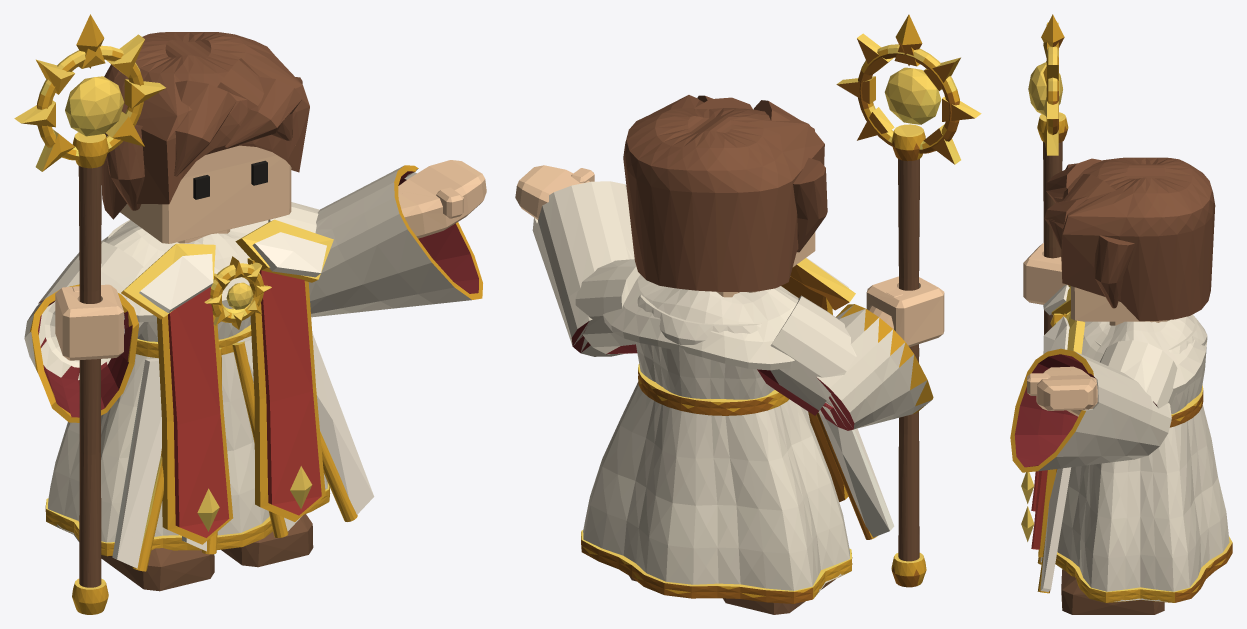
File: sunward.glb
The picture shows the model from 3 angles, left to right: view 1: azimuth 30°, elevation 25°; view 2: azimuth 150°, elevation 25°; view 3: azimuth 270°, elevation 25°; orthographic projection. The views are drawn at different scales.
Visible parts, largest first — view 1: Hair — coherent irregular crown and swept fringe, Clothing — left V7 continuous outer source shoulder elbow cu, Clothing — continuous connected deeply pleated source robe, Clothing — left rich red folded stole field, Clothing — right rich red folded stole field, Head — one continuous source cuboid skull and concealed crow, Weapon — source straight coaxial staff shaft, Clothing — right V7 continuous outer source shoulder elbow c, Clothing — right broad flowing ivory skirt panel 2, Hand — left connected broad source outward blessing palm, Hand — right stronger compact source grasp continuous with a, Clothing — right folded gold stole border (+26 smaller); view 2: Clothing — continuous connected deeply pleated source robe, Hair — coherent irregular crown and swept fringe, Clothing — right V7 continuous outer source shoulder elbow c, Clothing — left V7 continuous outer source shoulder elbow cu, Clothing — thin fitted draped ceremonial mantle shoulder she, Weapon — source straight coaxial staff shaft, Clothing — sculpted gold skirt hem, Hand — right stronger compact source grasp continuous with a, Clothing — right broad flowing ivory skirt panel 2, Clothing — actual fitted gold waist belt, Weapon — major solid sun staff focus substantial source pris, Weapon — major solid sun staff focus source gold order ring (+9 smaller); view 3: Clothing — continuous connected deeply pleated source robe, Hair — coherent irregular crown and swept fringe, Clothing — left V7 continuous outer source shoulder elbow cu, Clothing — thin fitted draped ceremonial mantle shoulder she, Hand — left connected broad source outward blessing palm, Clothing — sculpted gold skirt hem, Foot — left visible planted robe boot, Hair — left fitted tapered temple return, Clothing — left broad flowing ivory skirt panel 2, Hand — right stronger compact source grasp continuous with a, Head — one continuous source cuboid skull and concealed crow, Weapon — source straight coaxial staff shaft (+11 smaller).
Part boxes in pixels (x1=…): Hair — coherent irregular crown and swept fringe: x1=101, y1=32, x2=309, y2=219; Clothing — left V7 continuous outer source shoulder elbow cu: x1=268, y1=165, x2=482, y2=317; Clothing — continuous connected deeply pleated source robe: x1=48, y1=220, x2=327, y2=542; Clothing — left rich red folded stole field: x1=259, y1=270, x2=321, y2=515; Clothing — right rich red folded stole field: x1=168, y1=287, x2=229, y2=537; Head — one continuous source cuboid skull and concealed crow: x1=120, y1=145, x2=291, y2=243; Weapon — source straight coaxial staff shaft: x1=78, y1=166, x2=101, y2=587; Clothing — right V7 continuous outer source shoulder elbow c: x1=24, y1=241, x2=148, y2=422; Clothing — right broad flowing ivory skirt panel 2: x1=112, y1=358, x2=161, y2=568; Hand — left connected broad source outward blessing palm: x1=398, y1=160, x2=486, y2=238; Hand — right stronger compact source grasp continuous with a: x1=55, y1=284, x2=123, y2=360; Clothing — right folded gold stole border: x1=157, y1=315, x2=233, y2=544; Clothing — continuous connected deeply pleated source robe: x1=583, y1=288, x2=849, y2=593; Hair — coherent irregular crown and swept fringe: x1=623, y1=95, x2=824, y2=292; Clothing — right V7 continuous outer source shoulder elbow c: x1=757, y1=295, x2=933, y2=430; Clothing — left V7 continuous outer source shoulder elbow cu: x1=532, y1=181, x2=640, y2=356; Clothing — thin fitted draped ceremonial mantle shoulder she: x1=603, y1=274, x2=798, y2=370; Weapon — source straight coaxial staff shaft: x1=898, y1=159, x2=919, y2=561; Clothing — sculpted gold skirt hem: x1=581, y1=530, x2=852, y2=603; Hand — right stronger compact source grasp continuous with a: x1=866, y1=276, x2=944, y2=347; Clothing — right broad flowing ivory skirt panel 2: x1=819, y1=413, x2=894, y2=537; Clothing — actual fitted gold waist belt: x1=638, y1=363, x2=789, y2=415; Weapon — major solid sun staff focus substantial source pris: x1=884, y1=67, x2=941, y2=124; Weapon — major solid sun staff focus source gold order ring: x1=858, y1=44, x2=959, y2=153; Clothing — continuous connected deeply pleated source robe: x1=1057, y1=314, x2=1229, y2=601; Hair — coherent irregular crown and swept fringe: x1=1044, y1=157, x2=1215, y2=321; Clothing — left V7 continuous outer source shoulder elbow cu: x1=1010, y1=340, x2=1177, y2=472; Clothing — thin fitted draped ceremonial mantle shoulder she: x1=1081, y1=315, x2=1207, y2=393; Hand — left connected broad source outward blessing palm: x1=1027, y1=366, x2=1096, y2=410; Clothing — sculpted gold skirt hem: x1=1055, y1=536, x2=1232, y2=602; Foot — left visible planted robe boot: x1=1061, y1=569, x2=1164, y2=614; Hair — left fitted tapered temple return: x1=1093, y1=235, x2=1134, y2=308; Clothing — left broad flowing ivory skirt panel 2: x1=1040, y1=467, x2=1071, y2=592; Hand — right stronger compact source grasp continuous with a: x1=1023, y1=243, x2=1068, y2=304; Head — one continuous source cuboid skull and concealed crow: x1=1071, y1=286, x2=1169, y2=321; Weapon — source straight coaxial staff shaft: x1=1043, y1=141, x2=1062, y2=334.
Bounding box in the file's own units: 0.9602 × 1.18 × 0.4694.
